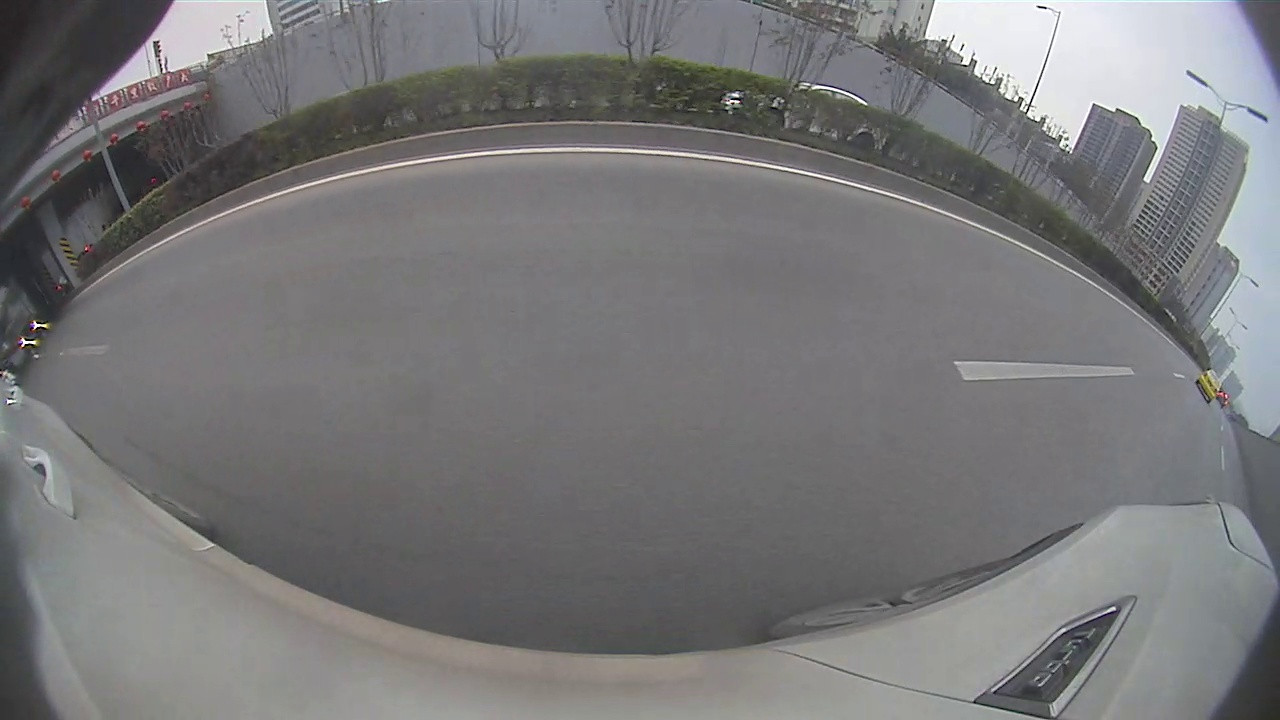car: (1197, 368, 1222, 403)
